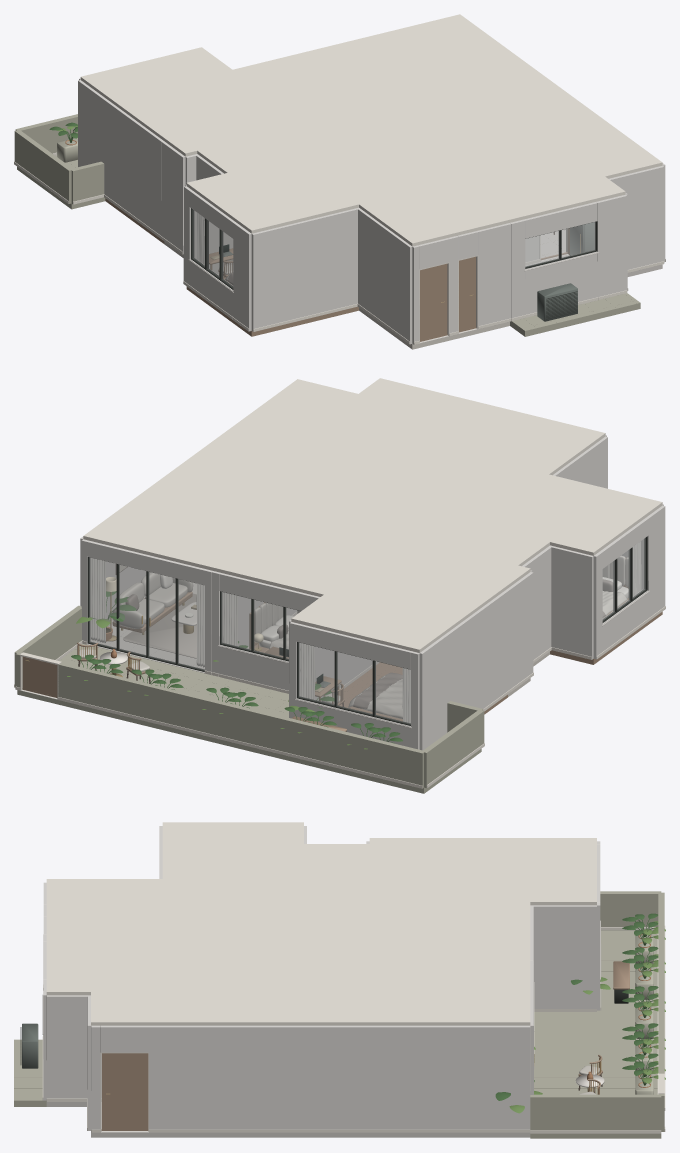
File: house.glb
3 views of the same model, one above another, from view 1: azimuth 30°, elevation 25°; view 2: azimuth 150°, elevation 25°; view 3: azimuth 270°, elevation 25° (orthographic). The views are drawn at different scales.
Visible parts, largest first — view 1: ceiling__CP_Trim, full__CP_Plaster, cutaway__CP_Plaster, cutaway__CP_Outdoor_Tile, full__CP_Glass, full__CP_Wood_Z, shared__CP_Outdoor_Tile, shared__CP_Trim, shared__CP_Appliance, full__CP_Outdoor_Tile, full__CP_Dark_Metal, shared__CP_Wood_X (+4 smaller); view 2: ceiling__CP_Trim, full__CP_Plaster, full__CP_Glass, cutaway__CP_Outdoor_Tile, cutaway__CP_Plaster, full__CP_Outdoor_Tile, shared__CP_Outdoor_Tile, shared__CP_Fabric, full__CP_Dark_Metal, full__CP_Fabric_Light, shared__CP_Trim, shared__CP_Wood_X (+6 smaller); view 3: ceiling__CP_Trim, full__CP_Plaster, cutaway__CP_Plaster, shared__CP_Outdoor_Tile, cutaway__CP_Outdoor_Tile, full__CP_Outdoor_Tile, full__CP_Wood_Z, shared__CP_Trim, shared__CP_Floor_Stone, shared__CP_Leaf, shared__CP_Leaf_Light, shared__CP_Appliance (+2 smaller).
Boxes of the visible parts, x1,y1,x2,y2 form: ceiling__CP_Trim: (80,14,662,246); full__CP_Plaster: (78,78,665,344); cutaway__CP_Plaster: (78,140,665,344); cutaway__CP_Outdoor_Tile: (14,114,104,204); full__CP_Glass: (193,210,595,286); full__CP_Wood_Z: (420,228,569,340); shared__CP_Outdoor_Tile: (17,138,640,336); shared__CP_Trim: (14,152,665,344); shared__CP_Appliance: (219,222,594,321); full__CP_Outdoor_Tile: (15,115,104,203); full__CP_Dark_Metal: (191,208,597,289); shared__CP_Wood_X: (105,198,358,336); ceiling__CP_Trim: (83,378,662,652); full__CP_Plaster: (80,435,665,750); full__CP_Glass: (89,538,645,723); cutaway__CP_Outdoor_Tile: (14,605,484,788); cutaway__CP_Plaster: (80,564,657,750); full__CP_Outdoor_Tile: (14,609,483,787); shared__CP_Outdoor_Tile: (17,643,481,793); shared__CP_Fabric: (79,555,628,718); full__CP_Dark_Metal: (87,536,647,725); full__CP_Fabric_Light: (91,541,641,723); shared__CP_Trim: (14,597,665,788); shared__CP_Wood_X: (77,558,662,731); ceiling__CP_Trim: (46,822,596,1025); full__CP_Plaster: (43,826,600,1129); cutaway__CP_Plaster: (43,969,600,1130); shared__CP_Outdoor_Tile: (14,930,661,1138); cutaway__CP_Outdoor_Tile: (530,891,664,1131); full__CP_Outdoor_Tile: (530,891,664,1131); full__CP_Wood_Z: (102,1053,148,1129); shared__CP_Trim: (42,926,665,1133); shared__CP_Floor_Stone: (46,1102,530,1137); shared__CP_Leaf: (495,913,658,1100); shared__CP_Leaf_Light: (509,921,665,1113); shared__CP_Appliance: (22,1023,38,1068).
Size of the model in its own units: 11.99 by 3.03 by 15.55.
